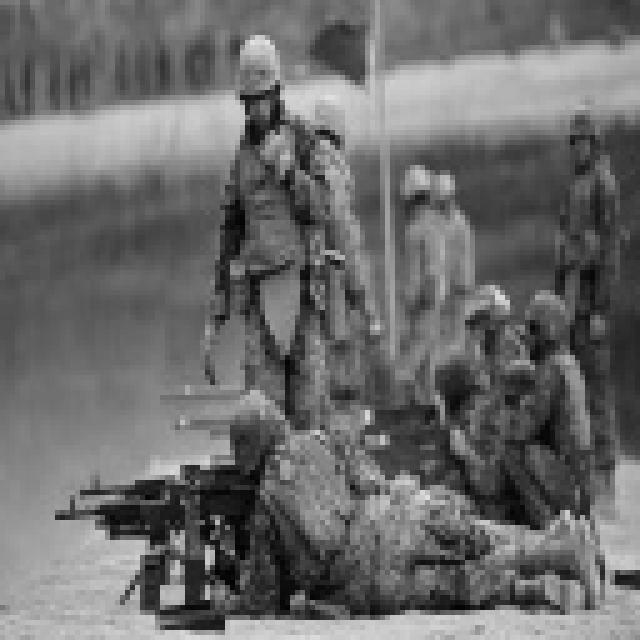Rifle: (45, 507, 239, 621), (38, 455, 247, 516), (348, 392, 461, 439)
